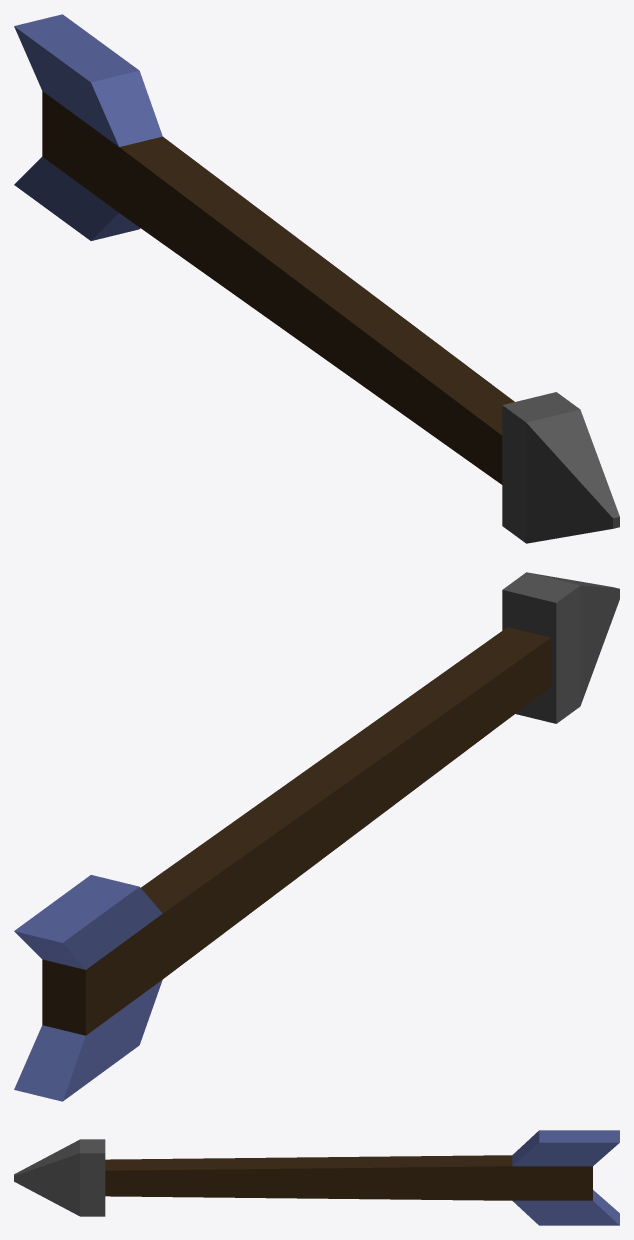
File: Army_Arrow_Blue.fbx
3 views of the same model, one above another, from view 1: azimuth 30°, elevation 25°; view 2: azimuth 150°, elevation 25°; view 3: azimuth 270°, elevation 25° (orthographic). The views are drawn at different scales.
Parts seen in each view (by area): view 1: Arrow Blue; view 2: Arrow Blue; view 3: Arrow Blue.
Part boxes in pixels (x1=…): Arrow Blue: x1=14, y1=14, x2=619, y2=543; Arrow Blue: x1=14, y1=572, x2=619, y2=1101; Arrow Blue: x1=14, y1=1130, x2=619, y2=1225.
Size of the model in its own units: 0.0313 by 0.0877 by 0.5793.
